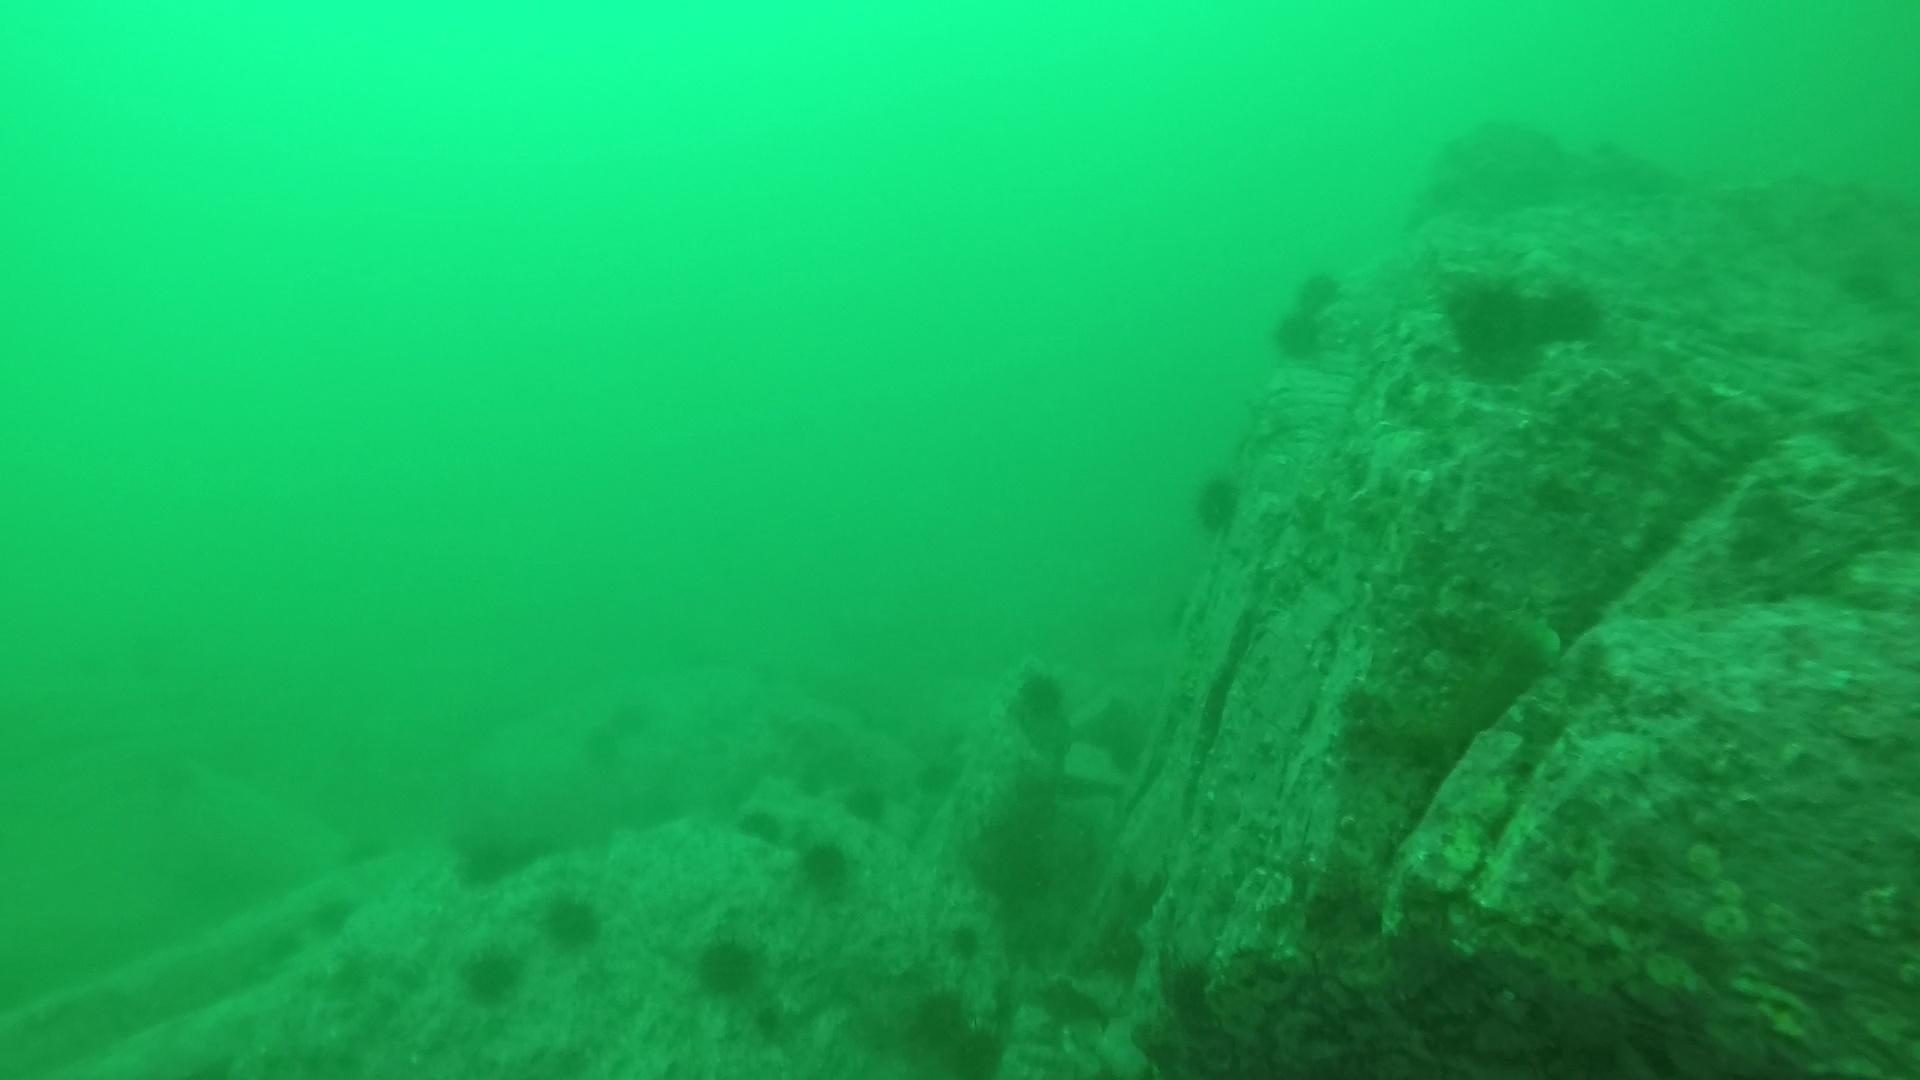echinus: (688, 927, 769, 1004), (1527, 276, 1607, 349), (448, 819, 530, 890), (1451, 280, 1528, 349), (1004, 663, 1075, 736), (535, 885, 609, 953), (1276, 266, 1346, 338), (456, 940, 527, 1007), (1185, 467, 1249, 538), (793, 833, 858, 897), (1274, 307, 1340, 371), (1166, 964, 1229, 1022), (915, 988, 978, 1044), (942, 1023, 1005, 1080), (837, 775, 893, 827), (735, 800, 789, 851), (582, 728, 622, 764), (604, 708, 644, 744), (952, 923, 992, 959)
